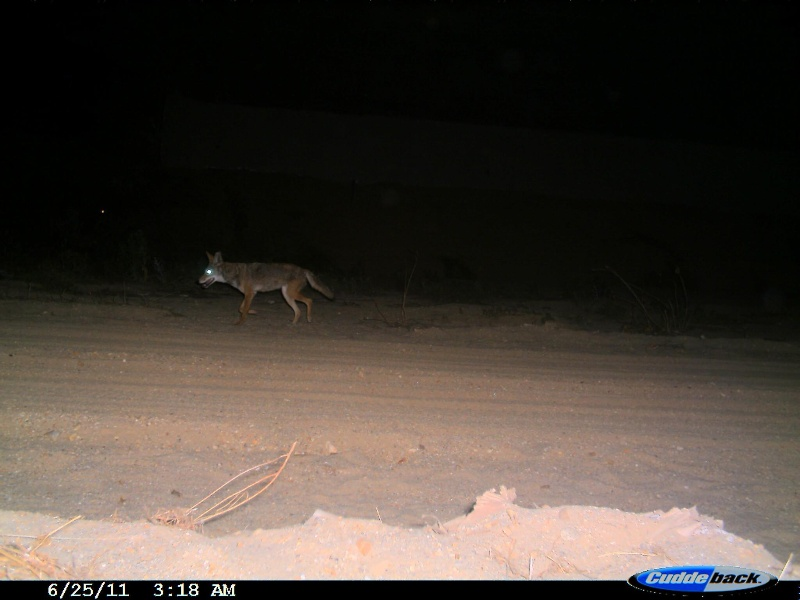coyote: (197, 245, 337, 325)
